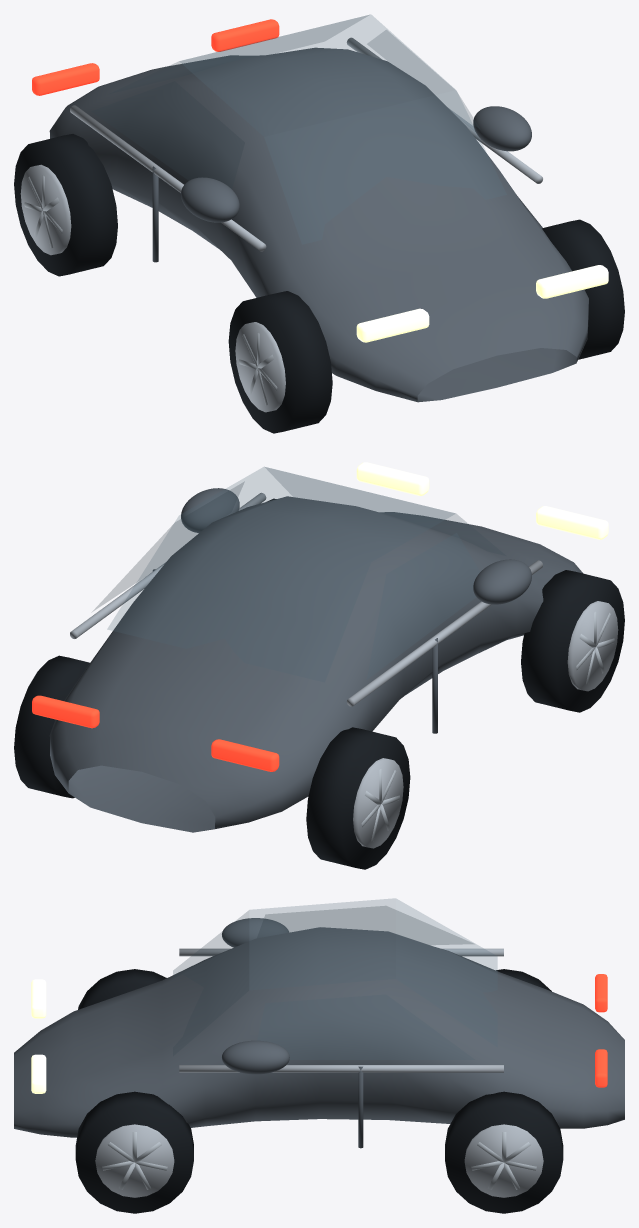
Rendered from car.glb.
The picture shows the model from 3 angles, top to bottom: view 1: azimuth 30°, elevation 25°; view 2: azimuth 150°, elevation 25°; view 3: azimuth 270°, elevation 25°; orthographic projection. The views are drawn at different scales.
Parts seen in each view (by area): view 1: body_paint.005, body_glass.042, body_rubber.013, body_steel.154, body_warm.101, body_red.021, body_titanium.028, body_dark.144; view 2: body_paint.005, body_glass.042, body_rubber.013, body_steel.154, body_warm.101, body_red.021, body_titanium.028; view 3: body_paint.005, body_glass.042, body_rubber.013, body_steel.154, body_titanium.028, body_warm.101, body_red.021, body_dark.144.
Part boxes in pixels (x1,y1,x2,y2): body_paint.005: (49, 47, 588, 402); body_glass.042: (92, 14, 506, 244); body_rubber.013: (14, 134, 624, 433); body_steel.154: (20, 37, 542, 412); body_warm.101: (356, 265, 608, 342); body_red.021: (32, 19, 279, 95); body_titanium.028: (24, 175, 277, 405); body_dark.144: (152, 166, 158, 262); body_paint.005: (49, 488, 583, 832); body_glass.042: (93, 467, 505, 681); body_rubber.013: (14, 498, 624, 869); body_steel.154: (70, 492, 618, 848); body_warm.101: (356, 462, 608, 539); body_red.021: (32, 695, 279, 771); body_titanium.028: (361, 611, 614, 841); body_paint.005: (14, 918, 624, 1137); body_glass.042: (173, 898, 497, 1059); body_rubber.013: (75, 969, 563, 1213); body_steel.154: (95, 948, 543, 1197); body_titanium.028: (102, 1132, 536, 1189); body_warm.101: (31, 979, 46, 1093); body_red.021: (595, 974, 607, 1087); body_dark.144: (358, 1066, 363, 1148).
Size of the model in its own units: 0.528 by 0.358 by 0.96.
